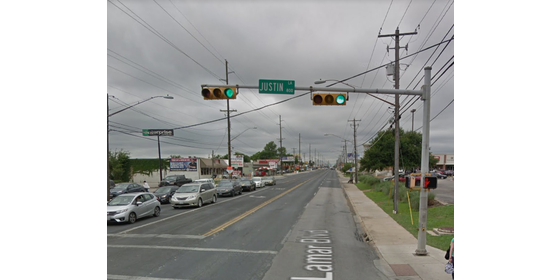street name sign: (256, 78, 299, 98)
